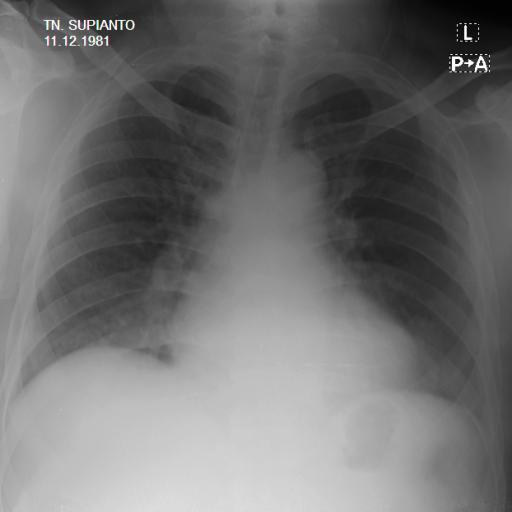kardiomegali: (8, 42, 502, 443)
